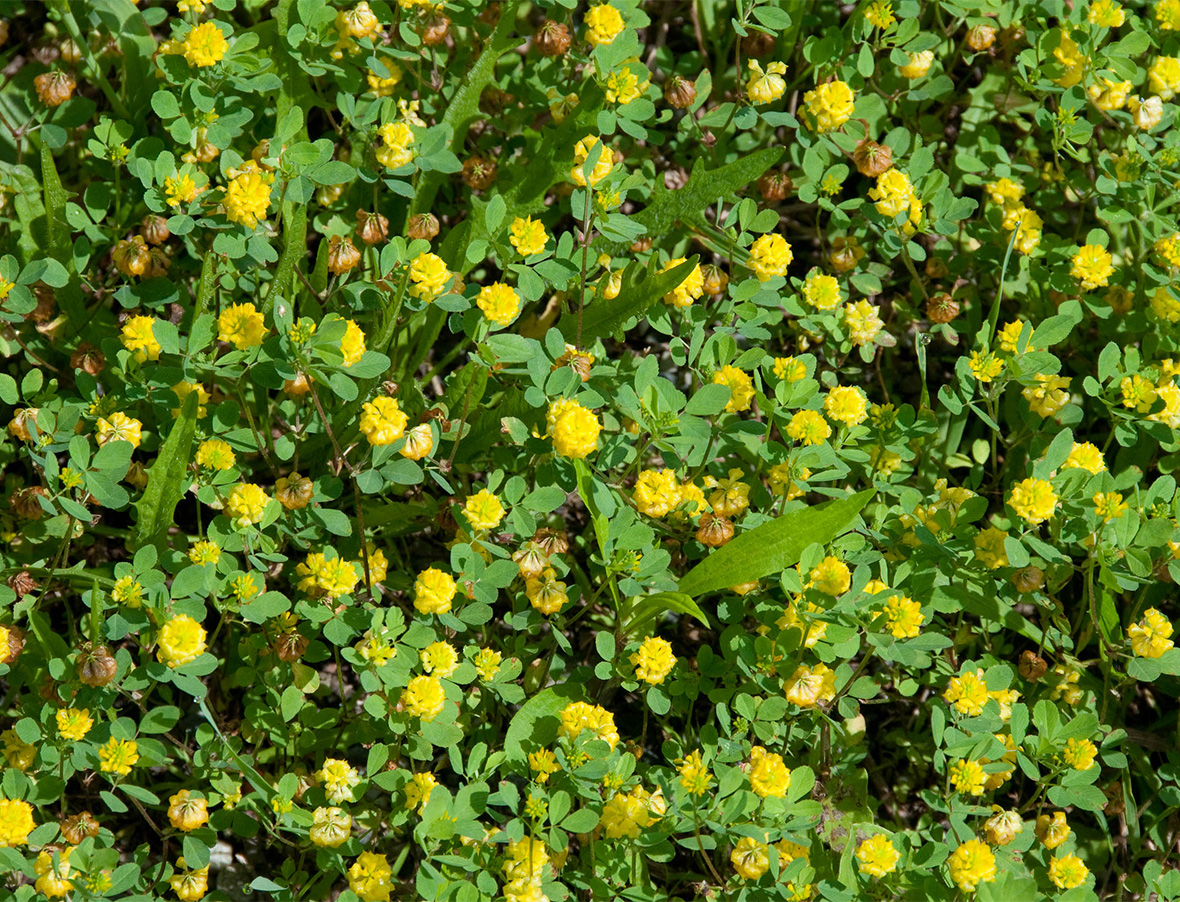clover: (8, 16, 1180, 893)
